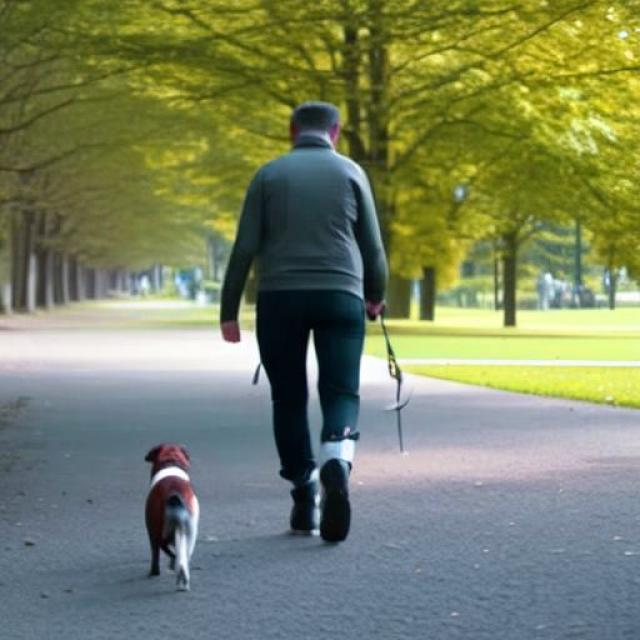Unleashed_Dog: (143, 309, 365, 591)
